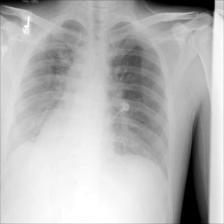normal: (1, 15, 177, 182)
